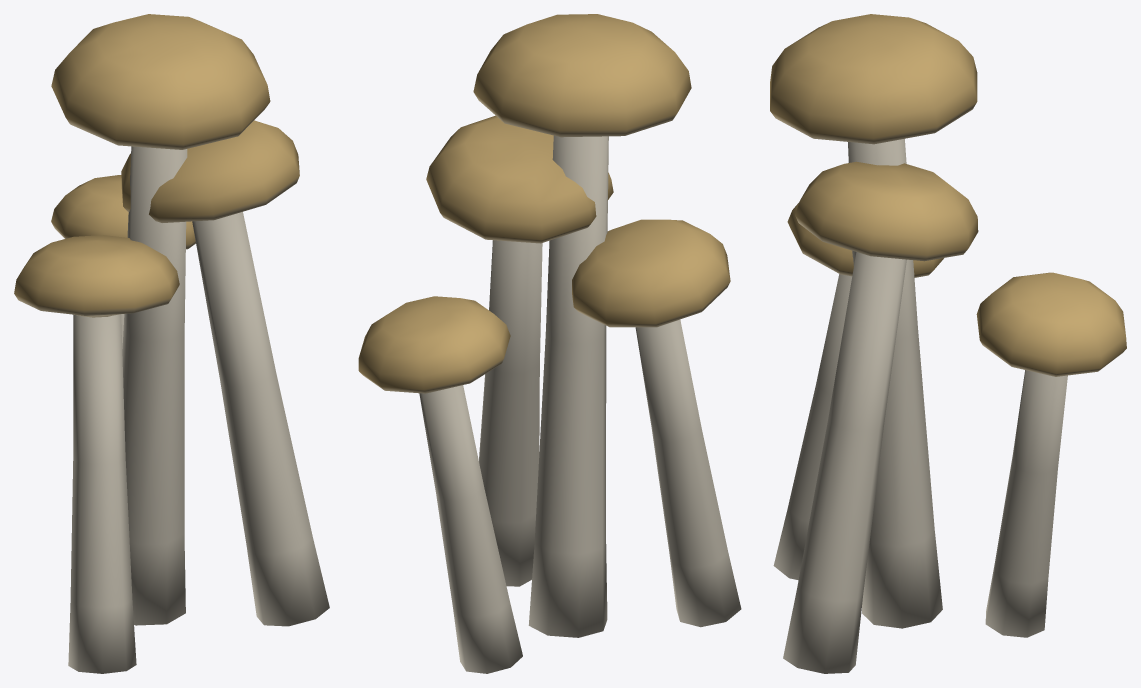
Rendered from mushroom-skinny.glb.
3 renders of one model, left to right at view 1: azimuth 30°, elevation 25°; view 2: azimuth 150°, elevation 25°; view 3: azimuth 270°, elevation 25°, orthographic.
Visible parts, largest first — view 1: mushroom-skinny; view 2: mushroom-skinny; view 3: mushroom-skinny.
Boxes of the visible parts, bbox=[...] form: mushroom-skinny: bbox=[14, 14, 329, 673]; mushroom-skinny: bbox=[358, 14, 741, 673]; mushroom-skinny: bbox=[770, 14, 1126, 673].
Size of the model in its own units: 0.1201 by 0.2478 by 0.1373.
